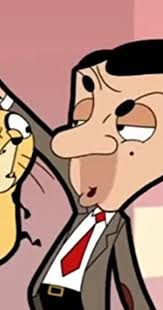mrbean: (26, 36, 162, 310)
